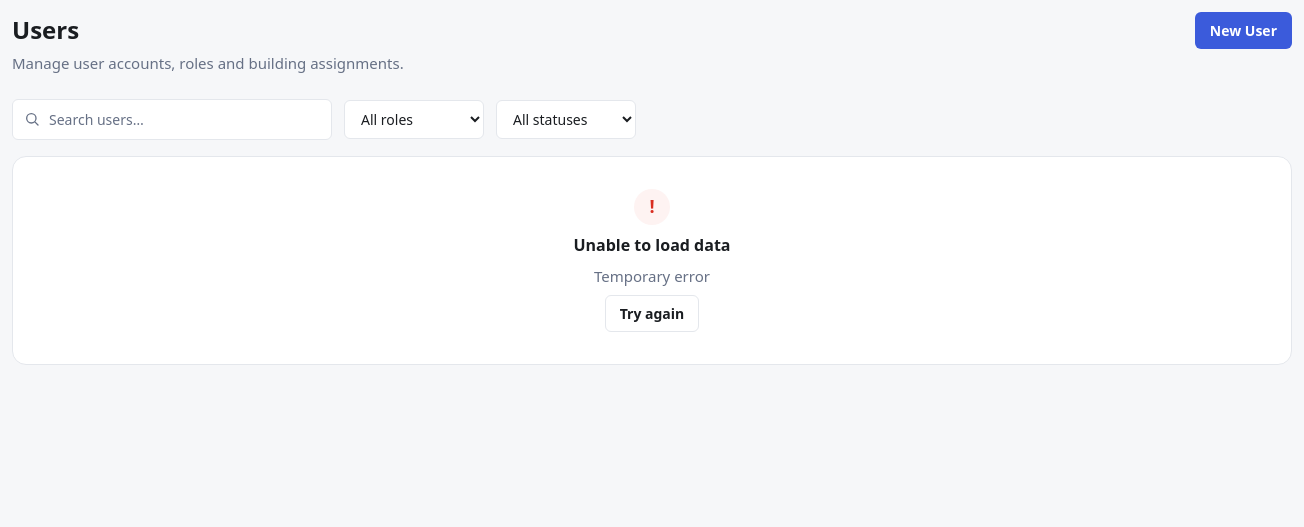
Test: UsersPage admin user management › retries after an error
Click the button "Try again" at coordinates (652, 314), box [605,295,699,332]
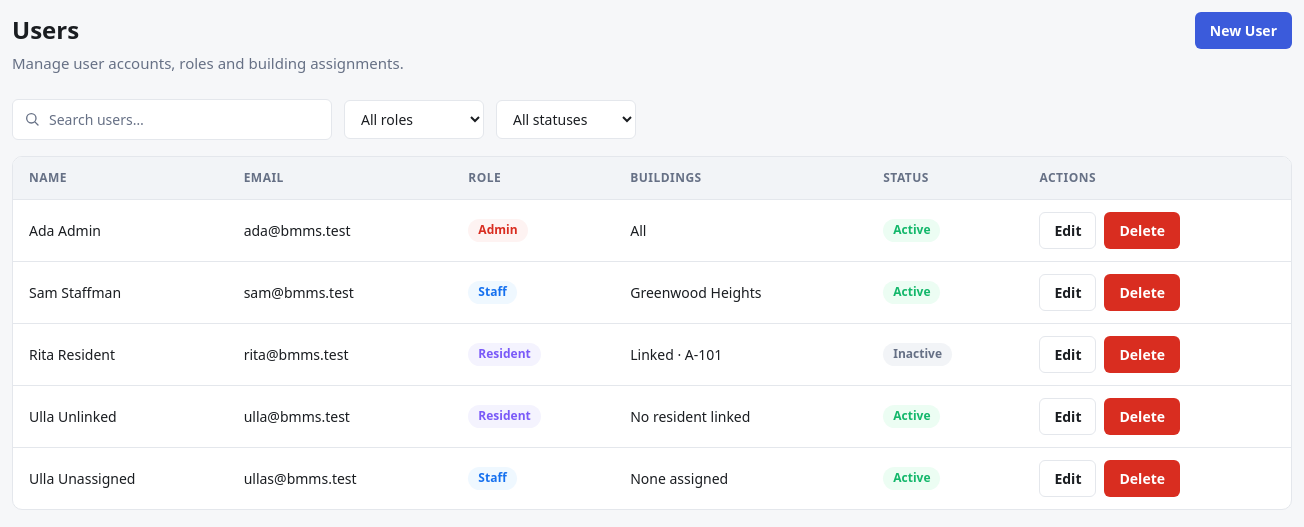
Result: the text "Ada Admin" is shown at [13,199,228,261]
